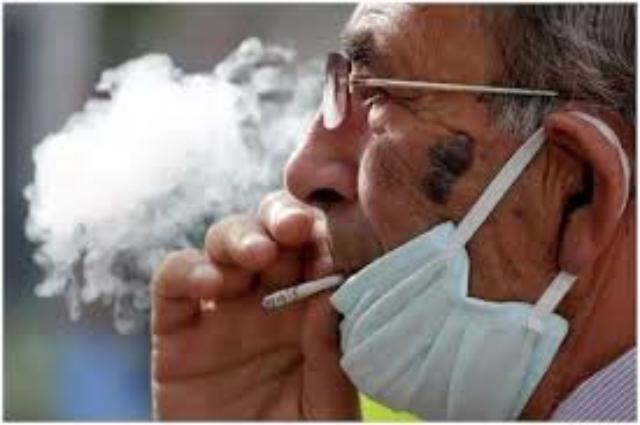Smoking: (262, 273, 350, 311)
